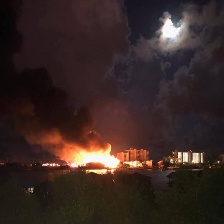fire: (66, 150, 124, 172)
smoke: (1, 60, 112, 154)
